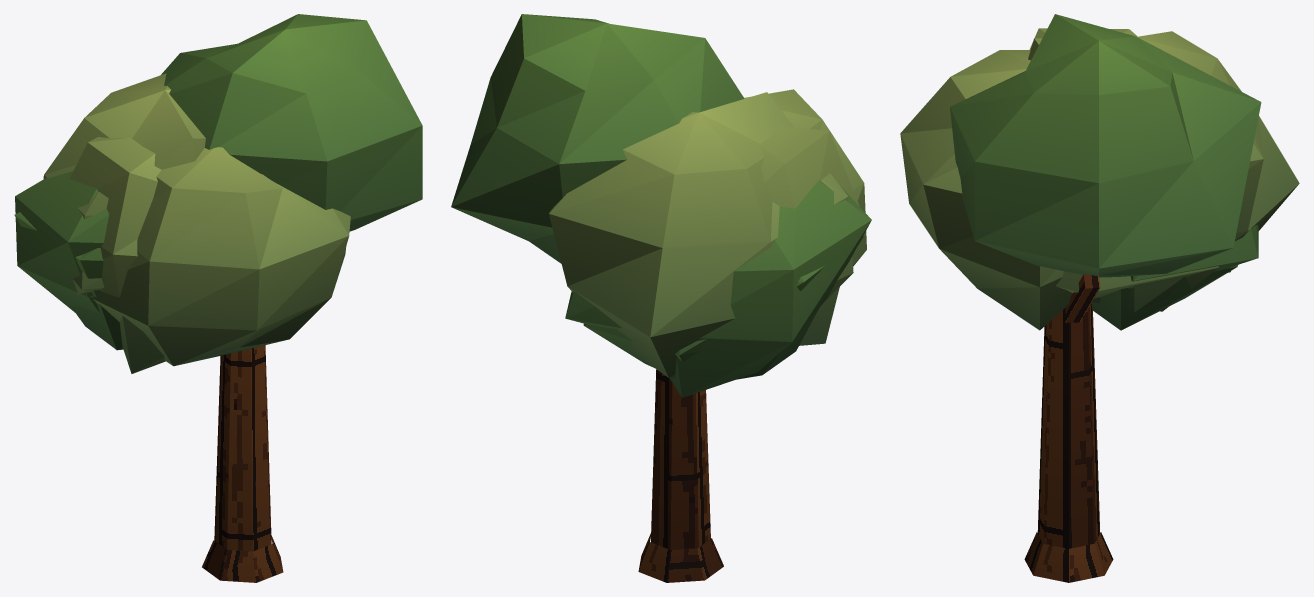
File: apple_2_lowpoly.glb
The picture shows the model from 3 angles, left to right: view 1: azimuth 30°, elevation 25°; view 2: azimuth 150°, elevation 25°; view 3: azimuth 270°, elevation 25°; orthographic projection. The views are drawn at different scales.
Parts seen in each view (by area): view 1: apple_2_lowpoly; view 2: apple_2_lowpoly; view 3: apple_2_lowpoly.
Part boxes in pixels (x1,y1,x2,y2): apple_2_lowpoly: [14, 14, 422, 582]; apple_2_lowpoly: [451, 14, 871, 582]; apple_2_lowpoly: [900, 14, 1299, 582].
Size of the model in its own units: 3.58 by 4.81 by 3.15.
2 materials, 1 textured.
